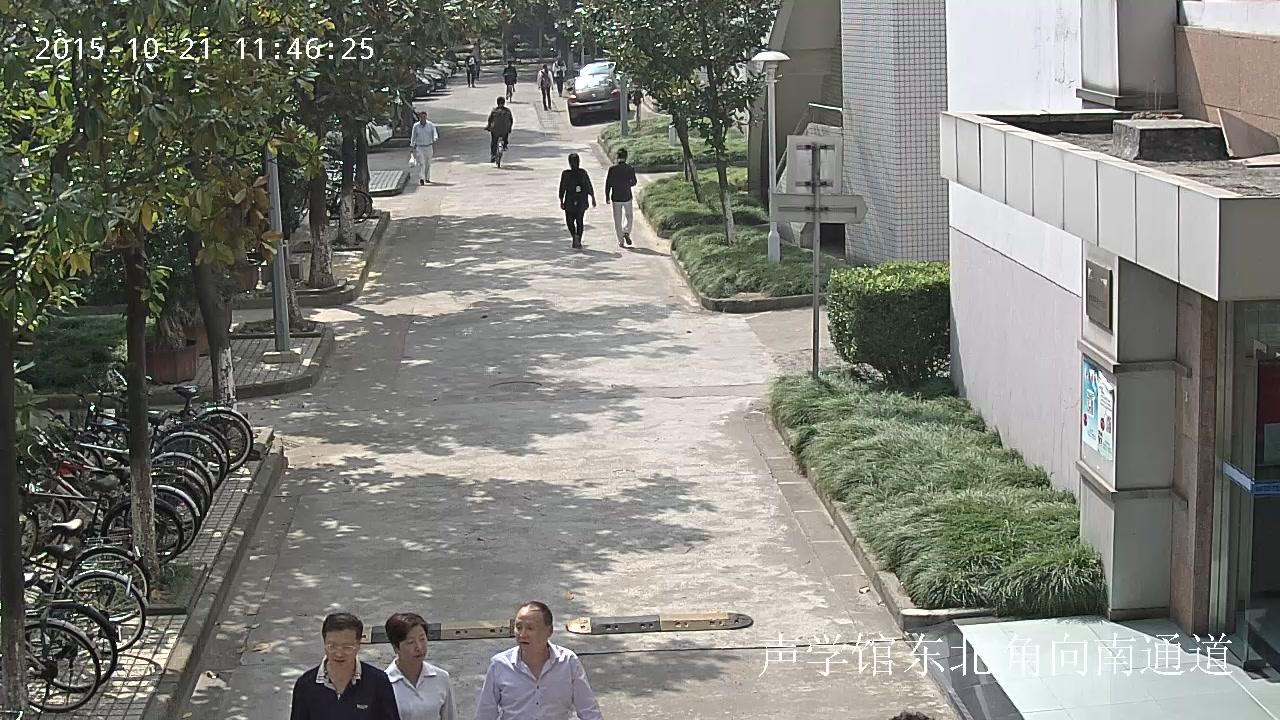face: (513, 606, 545, 653), (324, 630, 356, 669), (400, 626, 427, 665), (419, 114, 425, 121)
